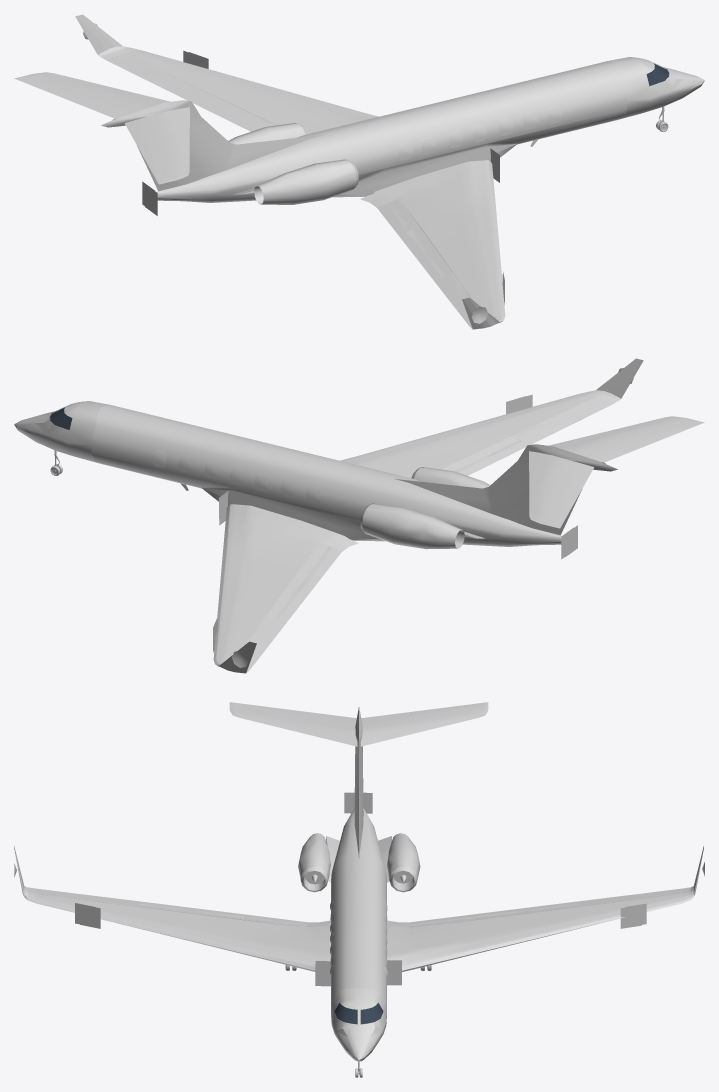
File: glf5.glb
3 renders of one model, top to bottom at view 1: azimuth 30°, elevation 25°; view 2: azimuth 150°, elevation 25°; view 3: azimuth 270°, elevation 25°, orthographic. The views are drawn at different scales.
Visible parts, largest first — view 1: body; view 2: body; view 3: body, glass.
Part boxes in pixels (box(x1,y1,x2,y2)): body: box(14, 14, 704, 329); body: box(14, 358, 704, 673); body: box(14, 702, 704, 1077); glass: box(334, 1002, 383, 1024).
Size of the model in its own units: 2.03 by 0.4992 by 2.2.
